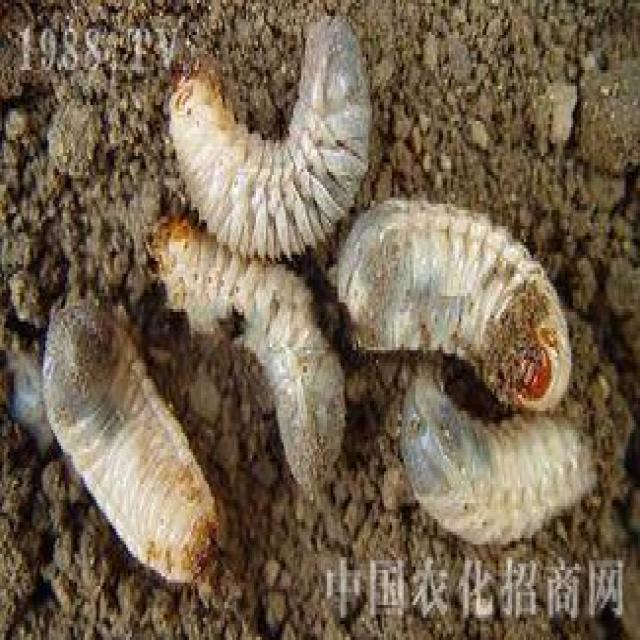Grub-Adult-: (149, 218, 351, 498), (332, 198, 572, 418), (169, 15, 378, 261), (44, 298, 220, 586), (400, 369, 598, 546)
